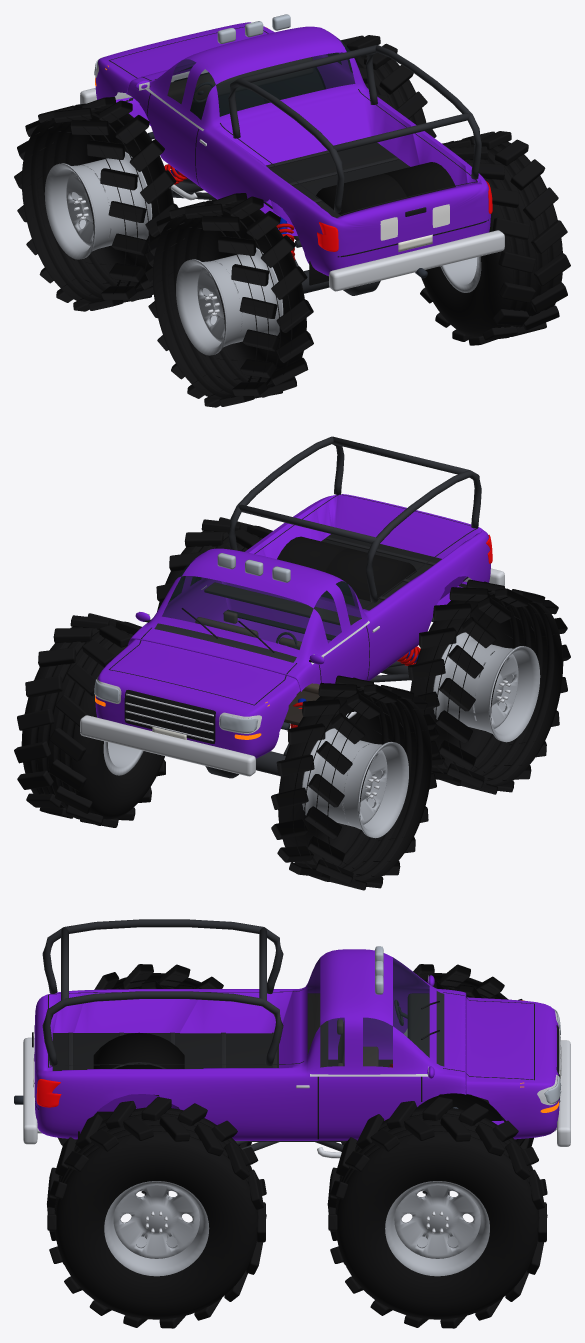
The model's file is MonsterTruck.fbx.
3 renders of one model, top to bottom at view 1: azimuth 30°, elevation 25°; view 2: azimuth 150°, elevation 25°; view 3: azimuth 270°, elevation 25°, orthographic. The views are drawn at different scales.
Parts seen in each view (by area): view 1: MonsterTruck_Body, MonsterTruck_Wheel3, MonsterTruck_Wheel1, MonsterTruck_Trim, MonsterTruck_Wheel4, MonsterTruck_Glass, MonsterTruck_Wheel2, MonsterTruck_Lights; view 2: MonsterTruck_Body, MonsterTruck_Wheel1, MonsterTruck_Trim, MonsterTruck_Wheel3, MonsterTruck_Wheel2, MonsterTruck_Glass, MonsterTruck_Wheel4, MonsterTruck_Lights; view 3: MonsterTruck_Body, MonsterTruck_Wheel2, MonsterTruck_Wheel4, MonsterTruck_Trim, MonsterTruck_Glass, MonsterTruck_Wheel3, MonsterTruck_Wheel1, MonsterTruck_Lights.
Part boxes in pixels (x1=…): MonsterTruck_Body: x1=95, y1=22, x2=490, y2=276; MonsterTruck_Wheel3: x1=145, y1=193, x2=313, y2=407; MonsterTruck_Wheel1: x1=14, y1=97, x2=178, y2=311; MonsterTruck_Trim: x1=80, y1=26, x2=504, y2=295; MonsterTruck_Wheel4: x1=420, y1=131, x2=570, y2=345; MonsterTruck_Glass: x1=167, y1=31, x2=354, y2=119; MonsterTruck_Wheel2: x1=315, y1=35, x2=436, y2=137; MonsterTruck_Lights: x1=94, y1=14, x2=492, y2=251; MonsterTruck_Body: x1=95, y1=494, x2=490, y2=758; MonsterTruck_Wheel1: x1=271, y1=675, x2=439, y2=890; MonsterTruck_Trim: x1=80, y1=436, x2=504, y2=778; MonsterTruck_Wheel3: x1=408, y1=579, x2=570, y2=794; MonsterTruck_Wheel2: x1=14, y1=613, x2=165, y2=827; MonsterTruck_Glass: x1=162, y1=552, x2=361, y2=649; MonsterTruck_Wheel4: x1=156, y1=517, x2=272, y2=611; MonsterTruck_Lights: x1=94, y1=534, x2=492, y2=739; MonsterTruck_Body: x1=34, y1=949, x2=559, y2=1140; MonsterTruck_Wheel2: x1=327, y1=1097, x2=547, y2=1328; MonsterTruck_Wheel4: x1=47, y1=1097, x2=266, y2=1328; MonsterTruck_Trim: x1=14, y1=919, x2=570, y2=1195; MonsterTruck_Glass: x1=308, y1=957, x2=429, y2=1067; MonsterTruck_Wheel3: x1=58, y1=964, x2=251, y2=1193; MonsterTruck_Wheel1: x1=341, y1=964, x2=533, y2=1193; MonsterTruck_Lights: x1=33, y1=946, x2=560, y2=1130.
Bounding box in the file's own units: 14.5 × 11.3 × 19.67.
